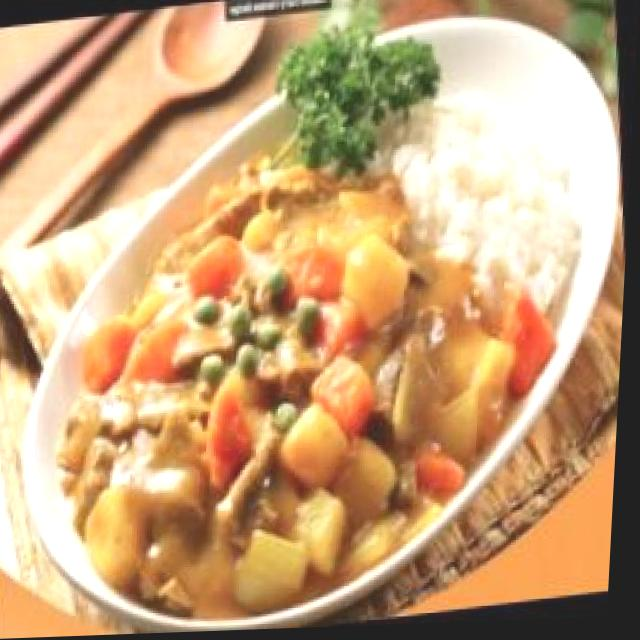curry: (31, 118, 579, 638)
rice: (409, 111, 568, 251)
